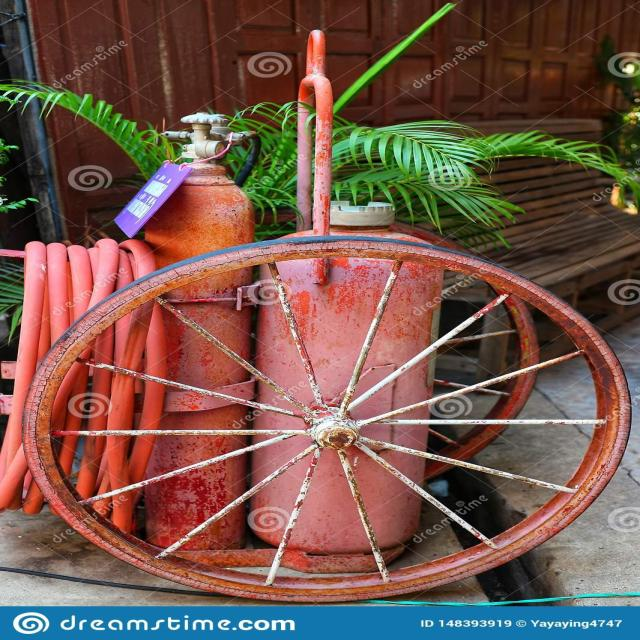fire_extinguisher: (242, 195, 453, 570), (117, 108, 268, 559)
